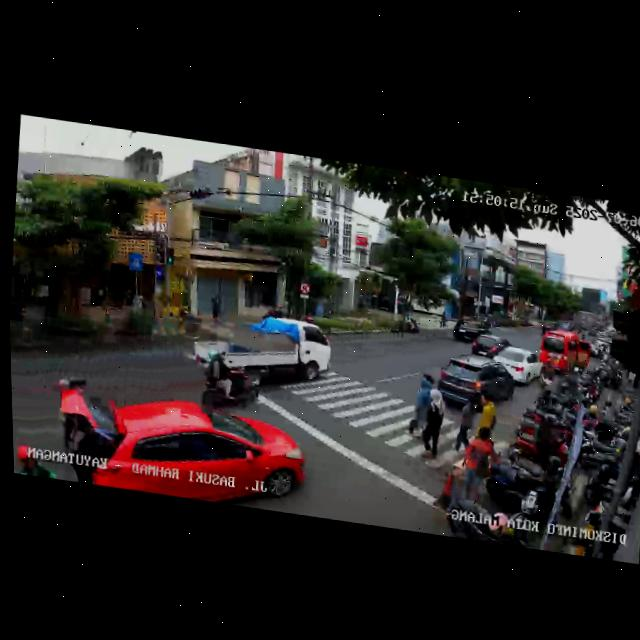car: (71, 384, 311, 515), (190, 304, 335, 398), (435, 350, 517, 415), (538, 328, 593, 379), (485, 342, 544, 388), (470, 331, 510, 362), (452, 317, 490, 345)
motorcycle: (196, 341, 261, 416)
person: (460, 423, 503, 505), (416, 384, 447, 466), (403, 371, 435, 442), (448, 393, 479, 455), (475, 391, 499, 445)
